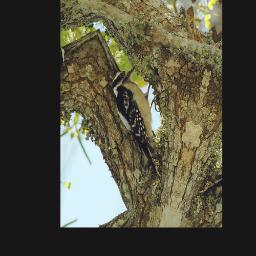Woodpecker: (91, 57, 182, 179)
